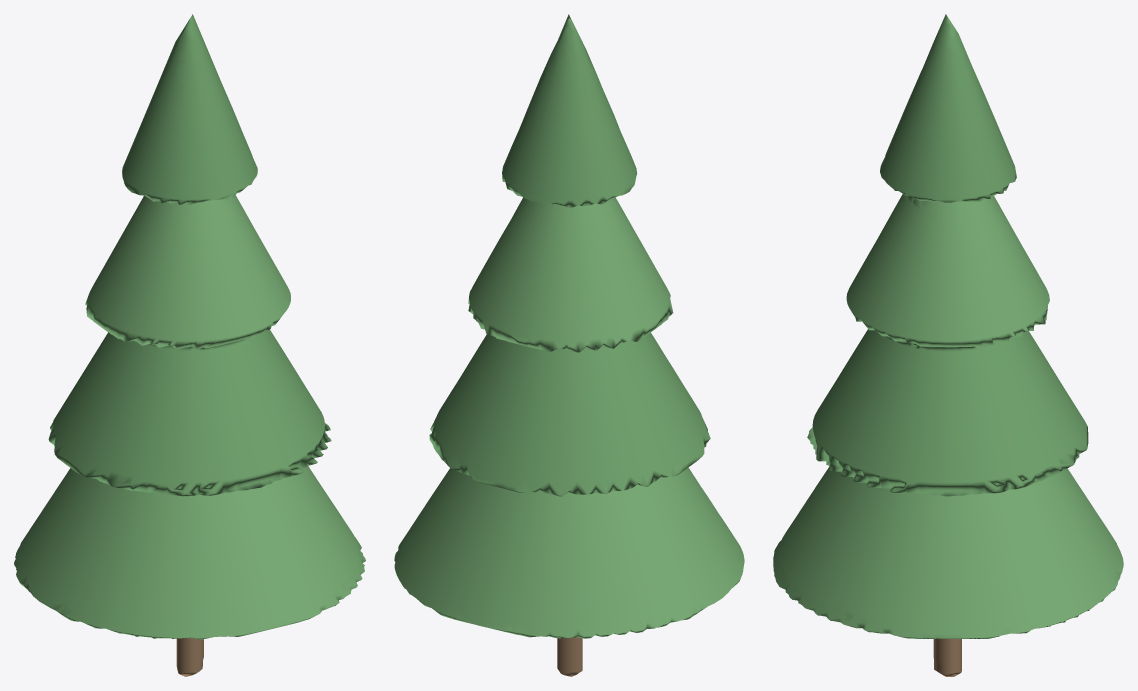
File: pine_tree.glb
3 views of the same model, side by side, from view 1: azimuth 30°, elevation 25°; view 2: azimuth 150°, elevation 25°; view 3: azimuth 270°, elevation 25° (orthographic).
Parts seen in each view (by area): view 1: IronSmith model; view 2: IronSmith model; view 3: IronSmith model.
Boxes of the visible parts, bbox=[...] form: IronSmith model: bbox=[14, 14, 365, 676]; IronSmith model: bbox=[394, 14, 744, 676]; IronSmith model: bbox=[773, 14, 1123, 676].
Size of the model in its own units: 29.41 by 61.37 by 29.41.
